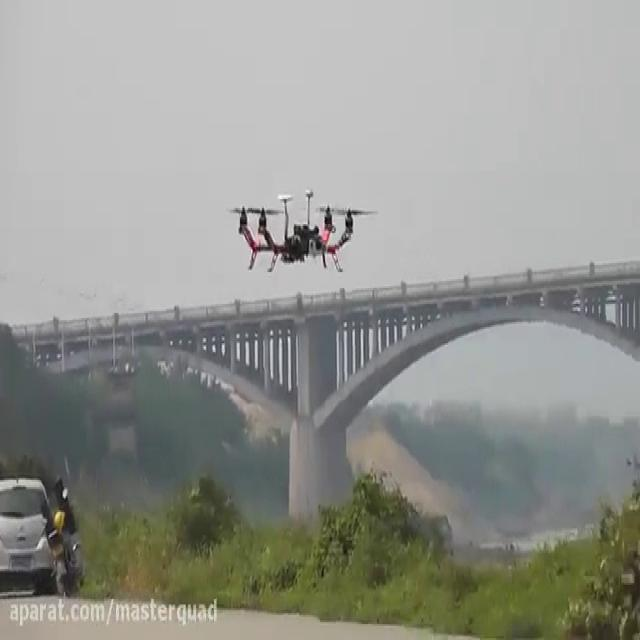drone: (223, 181, 382, 279)
